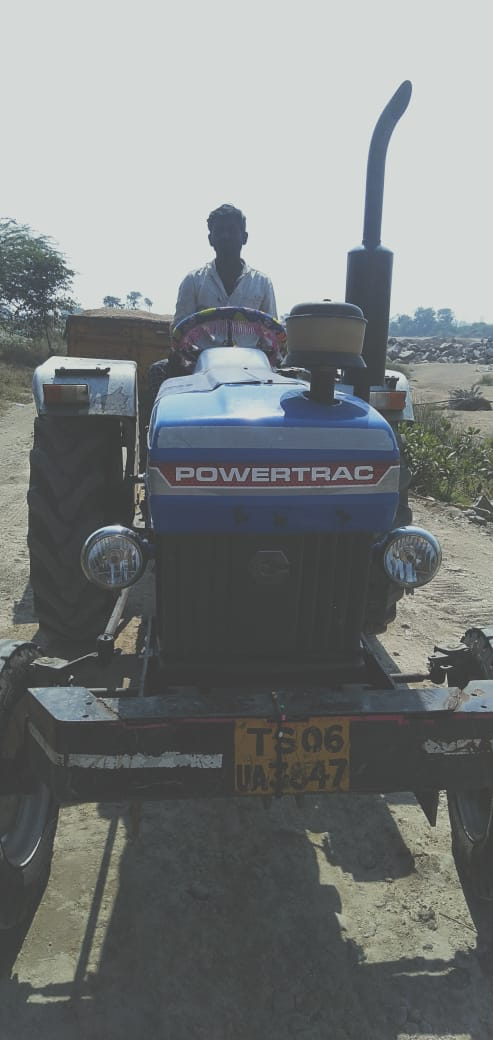num_plate: (230, 718, 360, 798)
